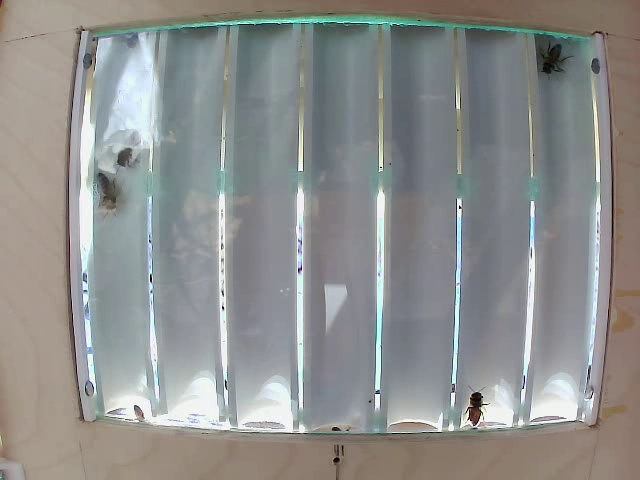bee: (94, 160, 134, 223), (467, 381, 501, 424), (532, 48, 566, 89)
